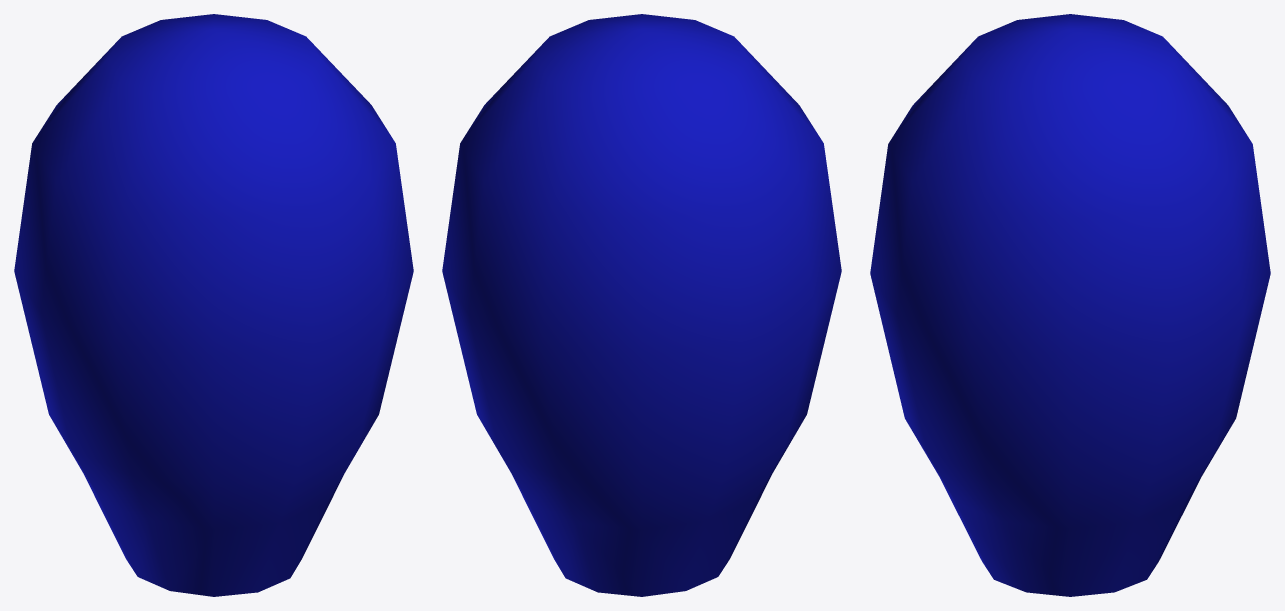
Rendered from Rocket_Jetpack_Explosion.fbx.
3 renders of one model, left to right at view 1: azimuth 30°, elevation 25°; view 2: azimuth 150°, elevation 25°; view 3: azimuth 270°, elevation 25°, orthographic.
Parts seen in each view (by area): view 1: Sphere002; view 2: Sphere002; view 3: Sphere002.
Part boxes in pixels (bbox=[...]): Sphere002: bbox=[14, 14, 413, 596]; Sphere002: bbox=[442, 14, 841, 596]; Sphere002: bbox=[870, 14, 1270, 596].
Size of the model in its own units: 27.13 by 39.71 by 27.13.
